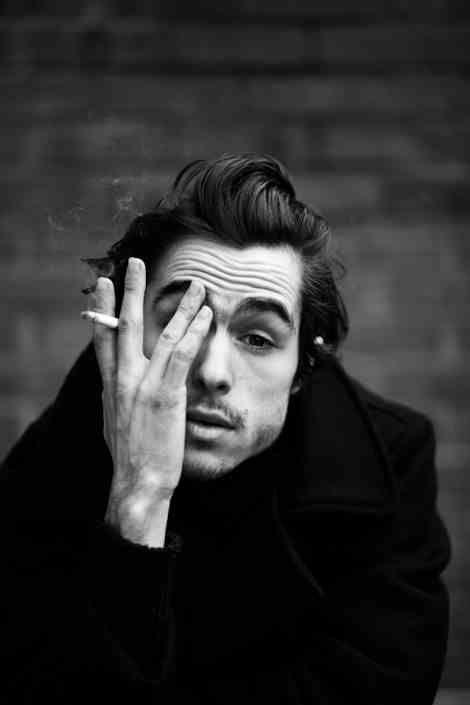cigarette: (80, 310, 120, 330)
